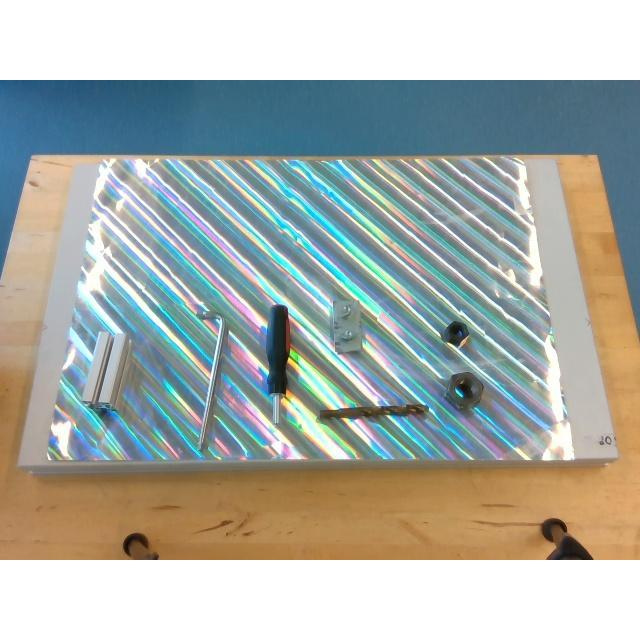AllenKey: (196, 312, 227, 452)
Drill: (318, 404, 429, 421)
M20: (444, 320, 468, 344)
M30: (446, 372, 482, 408)
S40_40_G: (81, 330, 129, 410)
